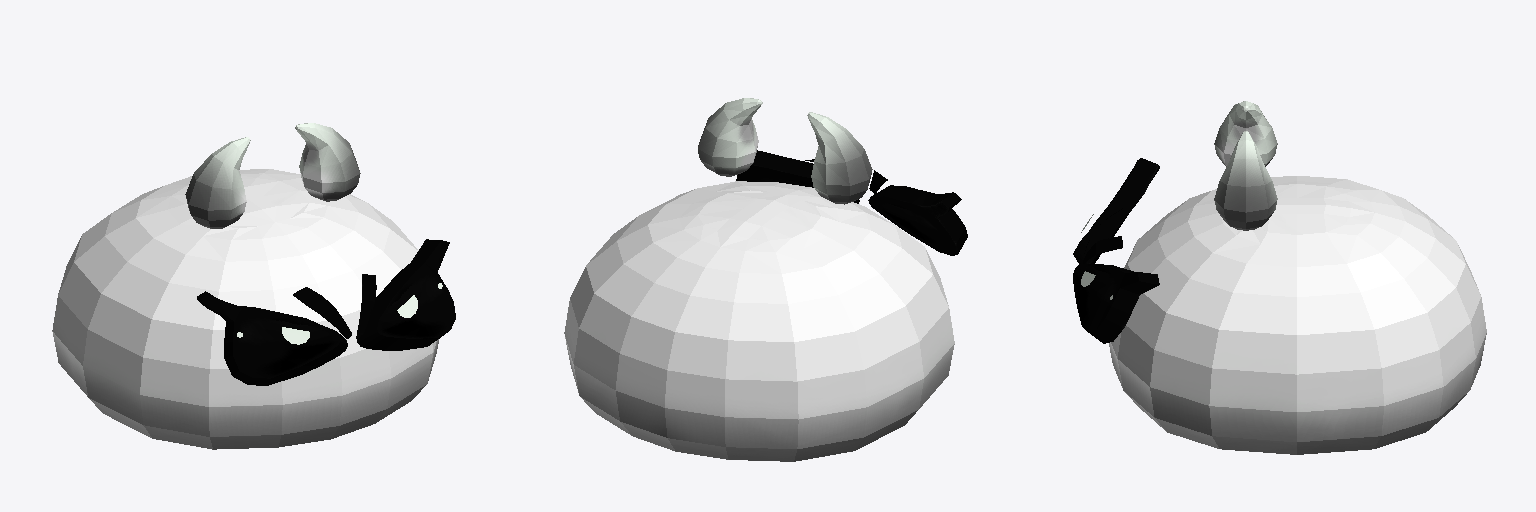
3 views of the same model, side by side, from view 1: azimuth 30°, elevation 25°; view 2: azimuth 150°, elevation 25°; view 3: azimuth 270°, elevation 25° (orthographic).
Parts seen in each view (by area): view 1: Enemy_Blob, Enemy_Blob.001; view 2: Enemy_Blob; view 3: Enemy_Blob.
Boxes of the visible parts, x1=… form: Enemy_Blob: x1=52, y1=123, x2=455, y2=449; Enemy_Blob.001: x1=293, y1=274, x2=376, y2=338; Enemy_Blob: x1=564, y1=98, x2=967, y2=461; Enemy_Blob: x1=1073, y1=101, x2=1486, y2=454.
Bounding box in the file's own units: 1.71 × 1.37 × 1.86.
1 materials, 1 textured.